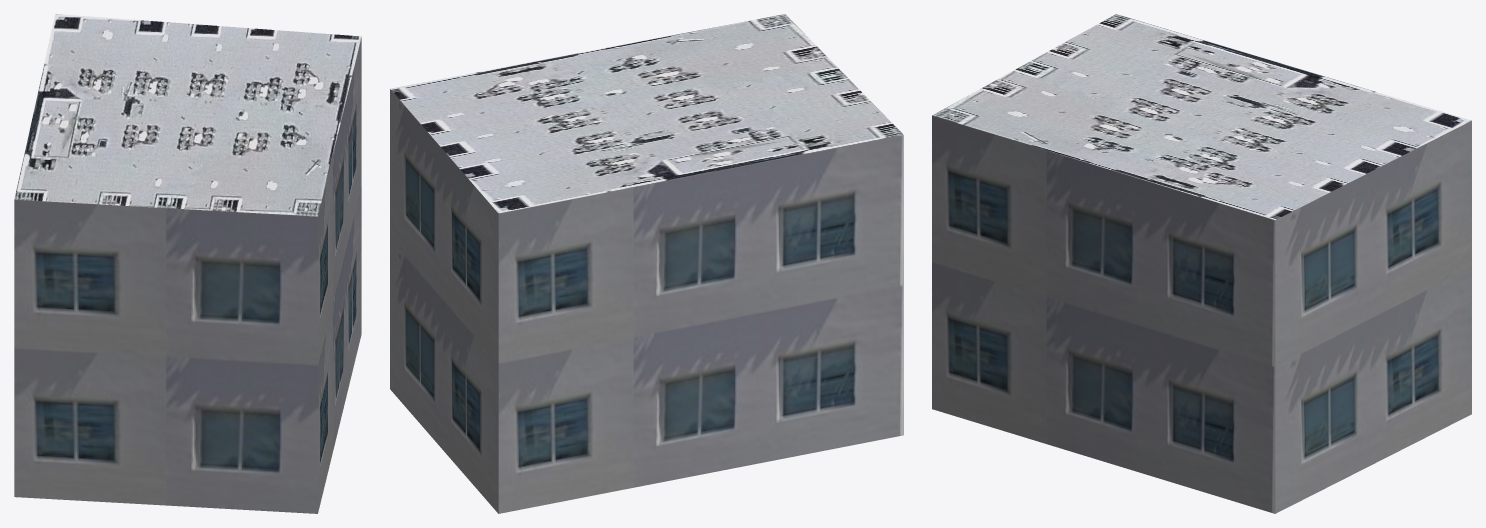
The model's file is ResTex__972.fbx.
The picture shows the model from 3 angles, left to right: view 1: azimuth 30°, elevation 25°; view 2: azimuth 150°, elevation 25°; view 3: azimuth 270°, elevation 25°; orthographic projection. The views are drawn at different scales.
Parts seen in each view (by area): view 1: CityEngineMaterial_10_m, CityEngineMaterial_8_m; view 2: CityEngineMaterial_10_m, CityEngineMaterial_8_m; view 3: CityEngineMaterial_10_m, CityEngineMaterial_8_m.
Boxes of the visible parts, x1,y1,x2,y2 form: CityEngineMaterial_10_m: (14,37,361,513); CityEngineMaterial_8_m: (14,14,361,216); CityEngineMaterial_10_m: (390,89,903,513); CityEngineMaterial_8_m: (390,14,903,213); CityEngineMaterial_10_m: (932,115,1471,513); CityEngineMaterial_8_m: (932,14,1471,219).
Bounding box in the file's own units: 9.04 × 6 × 9.99.
2 materials, 2 textured.
